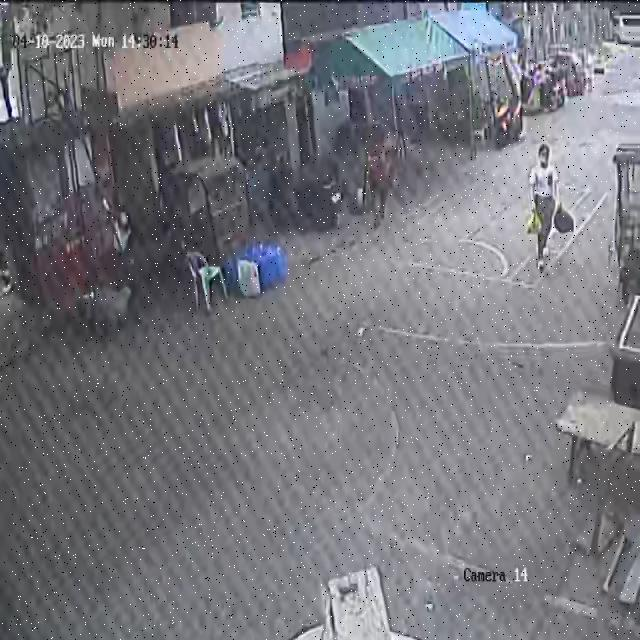human: (528, 145, 575, 273)
trash: (555, 199, 576, 243), (526, 202, 543, 240)
